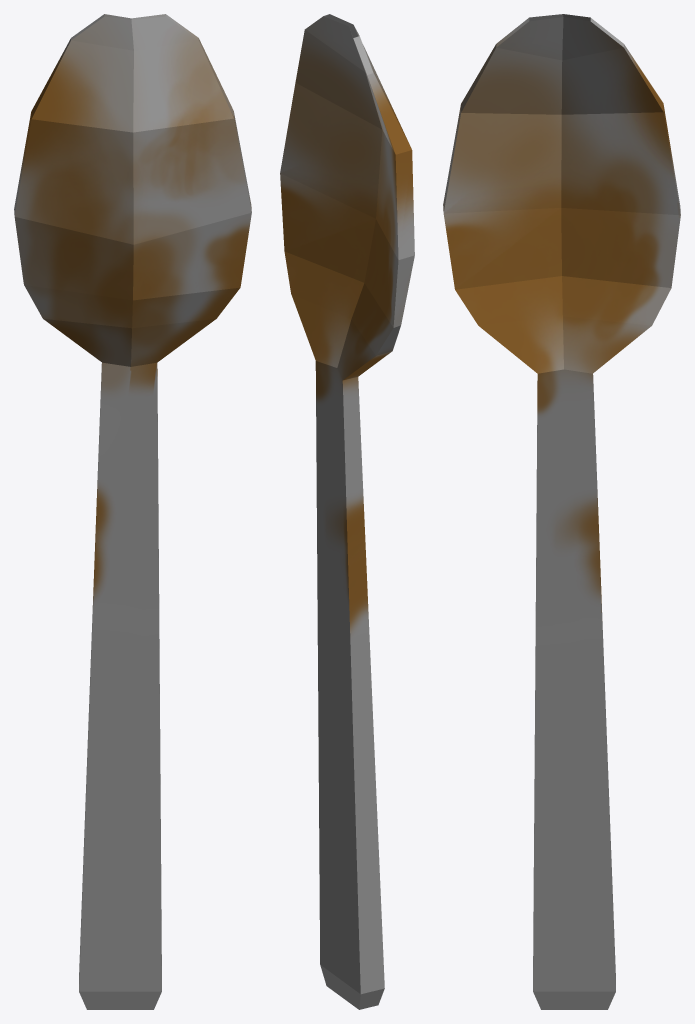
File: cutleryT2_spoon.fbx
3 renders of one model, left to right at view 1: azimuth 90°, elevation 25°; view 2: azimuth 210°, elevation 25°; view 3: azimuth 270°, elevation 25°, orthographic. The views are drawn at different scales.
Parts seen in each view (by area): view 1: spun; view 2: spun; view 3: spun.
Part boxes in pixels (bbox=[...]): spun: bbox=[14, 14, 251, 1009]; spun: bbox=[280, 14, 414, 1009]; spun: bbox=[443, 14, 680, 1009].
Size of the model in its own units: 14.06 by 201 by 43.81.
